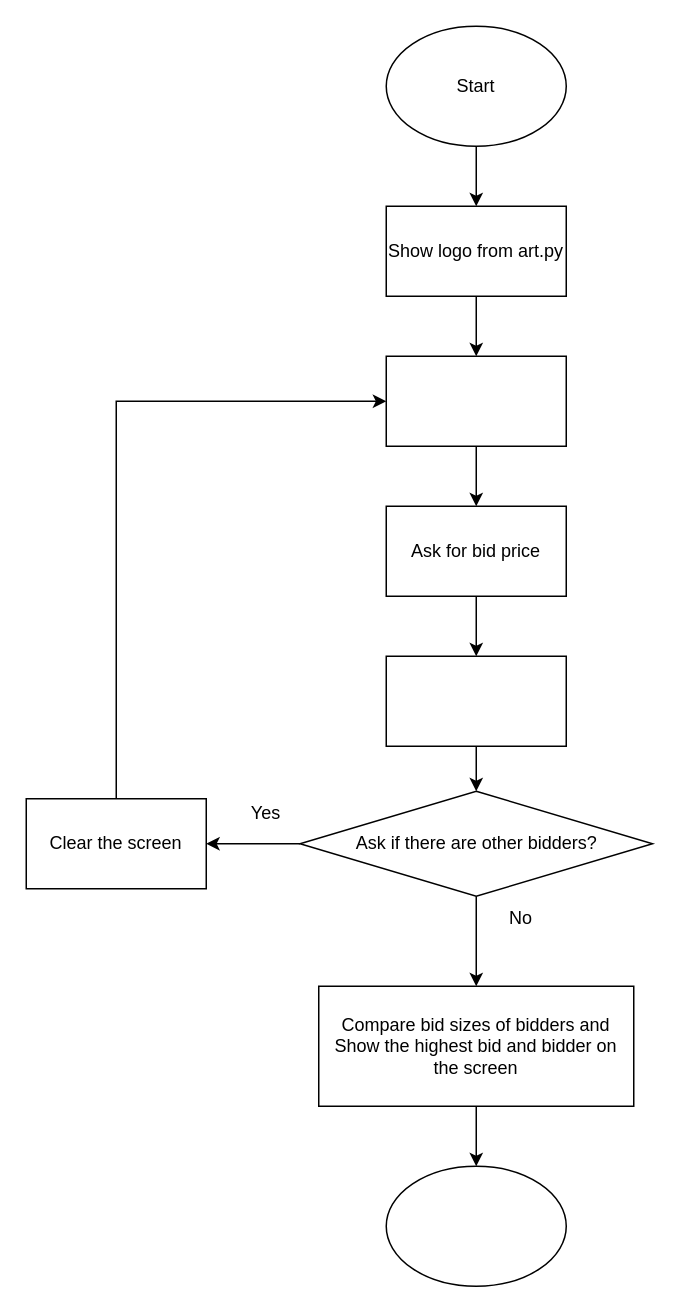
Image size: 680x1313. Some labels were removed from this diagram. Each missing label, with the centre of its shape:
"Add new bidder and their bid into a dict" goes at point 475,700.
"Ask for bidder name input" goes at point 475,400.
"End" goes at point 475,1225.
